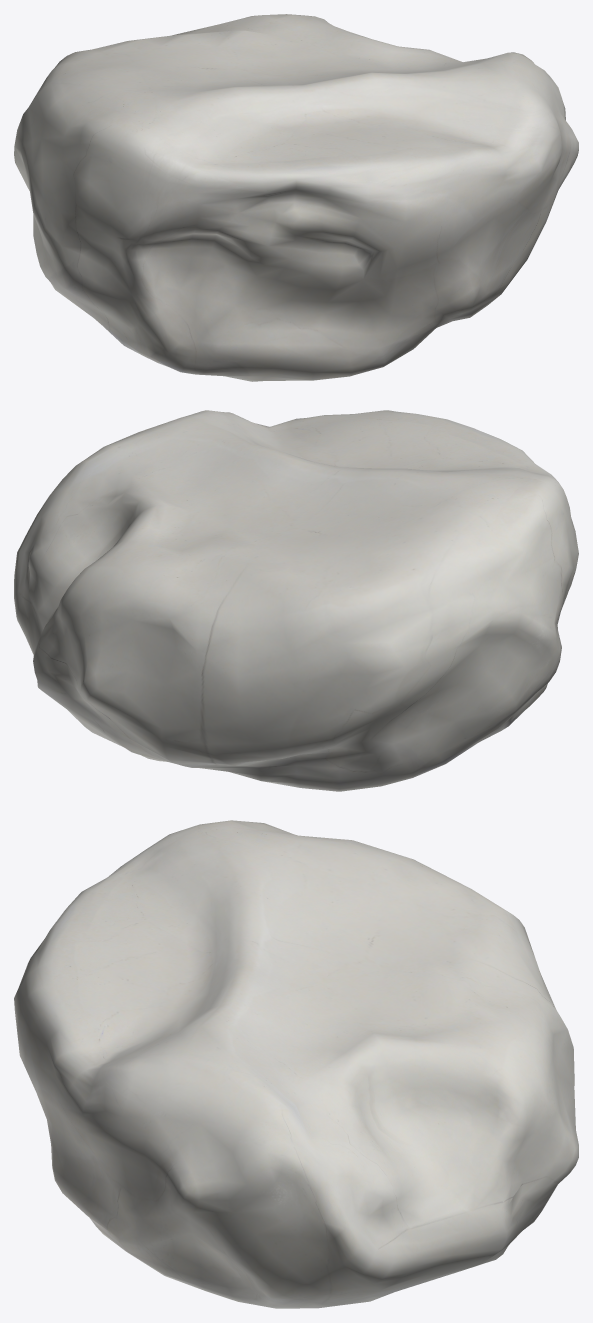
The model's file is rock-river.glb.
3 renders of one model, top to bottom at view 1: azimuth 30°, elevation 25°; view 2: azimuth 150°, elevation 25°; view 3: azimuth 270°, elevation 25°, orthographic. The views are drawn at different scales.
Size of the model in its own units: 1.9 by 0.957 by 1.62.
1 material, 1 textured.
